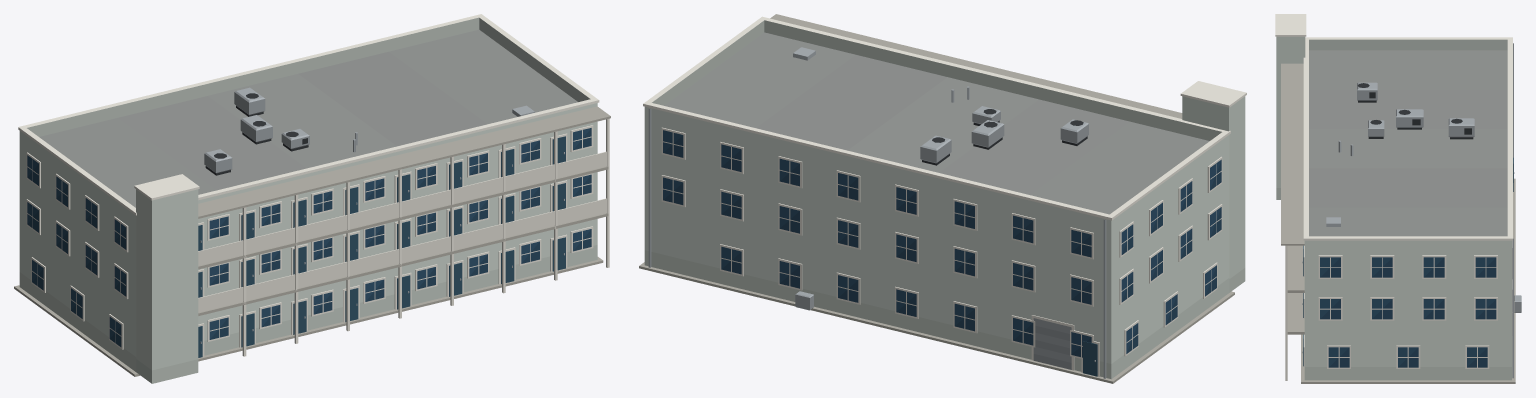
The model's file is lodge_32x14_3f.glb.
3 renders of one model, left to right at view 1: azimuth 30°, elevation 25°; view 2: azimuth 150°, elevation 25°; view 3: azimuth 270°, elevation 25°, orthographic. The views are drawn at different scales.
Visible parts, largest first — view 1: block; view 2: block; view 3: block.
Part boxes in pixels (left/top/right/bottom): block: left=14, top=14, right=610, bottom=383; block: left=639, top=14, right=1246, bottom=383; block: left=1275, top=14, right=1521, bottom=383.
Bounding box in the file's own units: 32.5 × 12.49 × 16.62.
